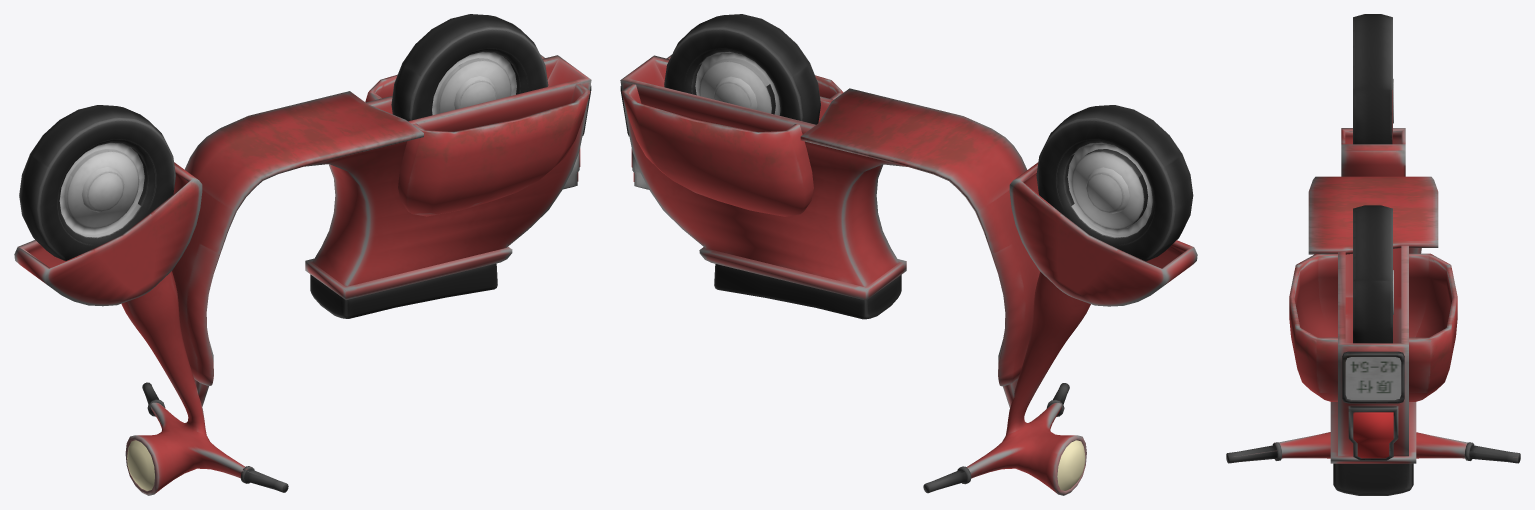
The model's file is anime-moped.glb.
3 renders of one model, left to right at view 1: azimuth 30°, elevation 25°; view 2: azimuth 150°, elevation 25°; view 3: azimuth 270°, elevation 25°, orthographic. The views are drawn at different scales.
Visible parts, largest first — view 1: anime-moped; view 2: anime-moped; view 3: anime-moped.
Boxes of the visible parts, x1,y1,x2,y2 form: anime-moped: (14,14,591,495); anime-moped: (620,14,1197,495); anime-moped: (1226,14,1520,495).
Size of the model in its own units: 2.12 by 1.44 by 0.9329.
1 material, 1 textured.
